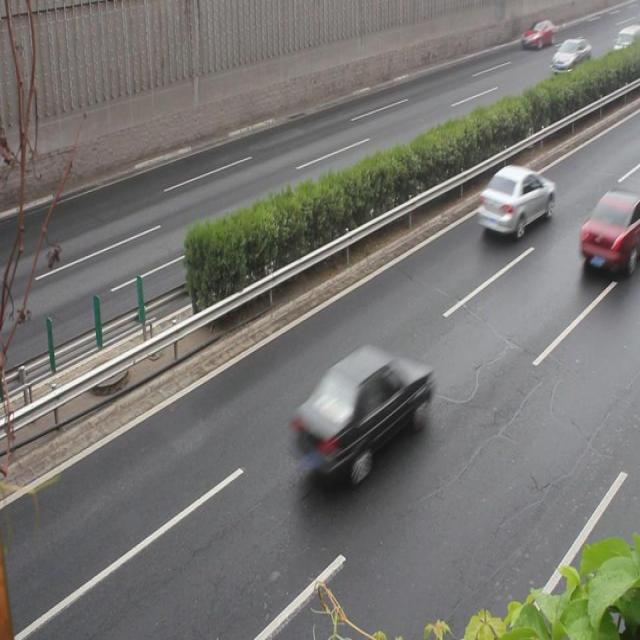car: (290, 344, 431, 478), (477, 164, 552, 239), (579, 189, 640, 273)
